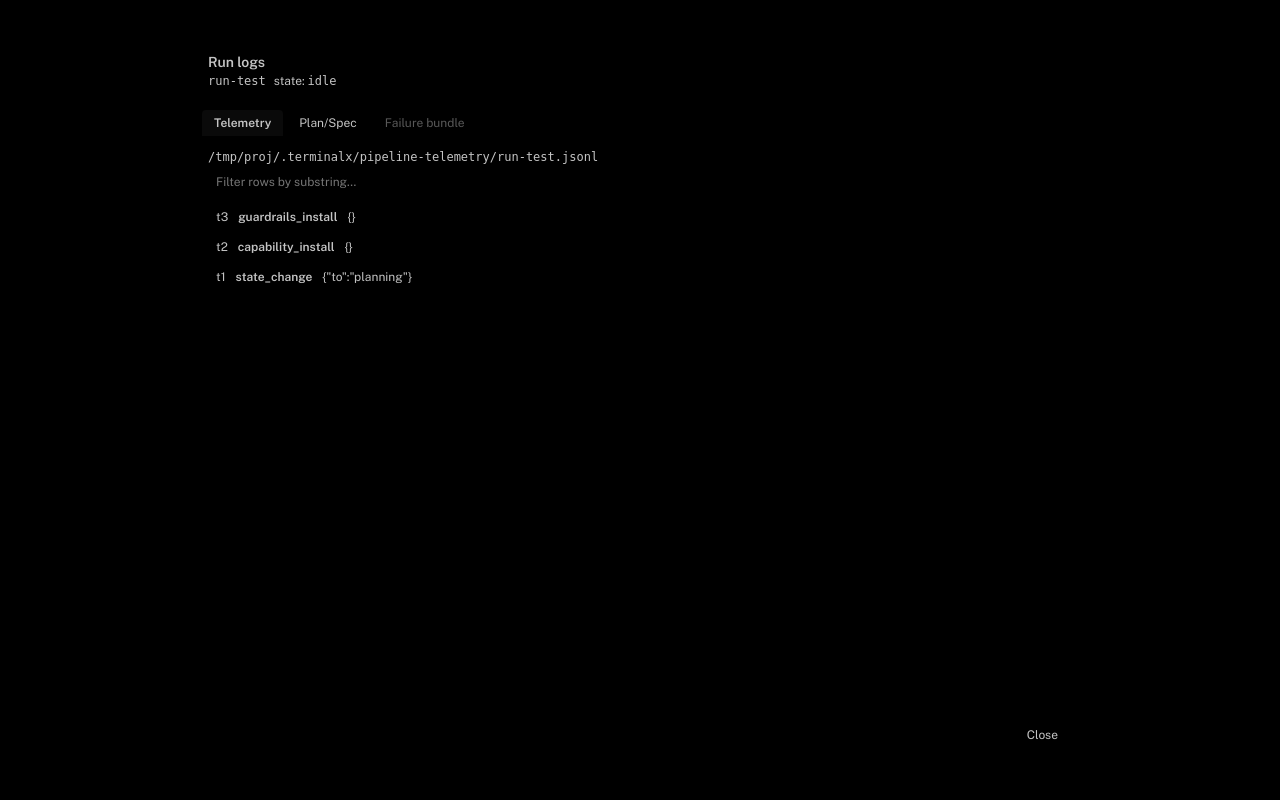
Test: RunLogsModal › search box filters telemetry rows by substring
The width and height of the screenshot is (1280, 800).
Expected: the number of list items with test id "run-logs-telemetry-row" is 3, x1=208 y1=204 x2=1072 y2=230; x1=208 y1=234 x2=1072 y2=260; x1=208 y1=264 x2=1072 y2=290
In the search field with test id "run-logs-search": (640, 182) x1=208 y1=170 x2=1072 y2=194, type "capability"
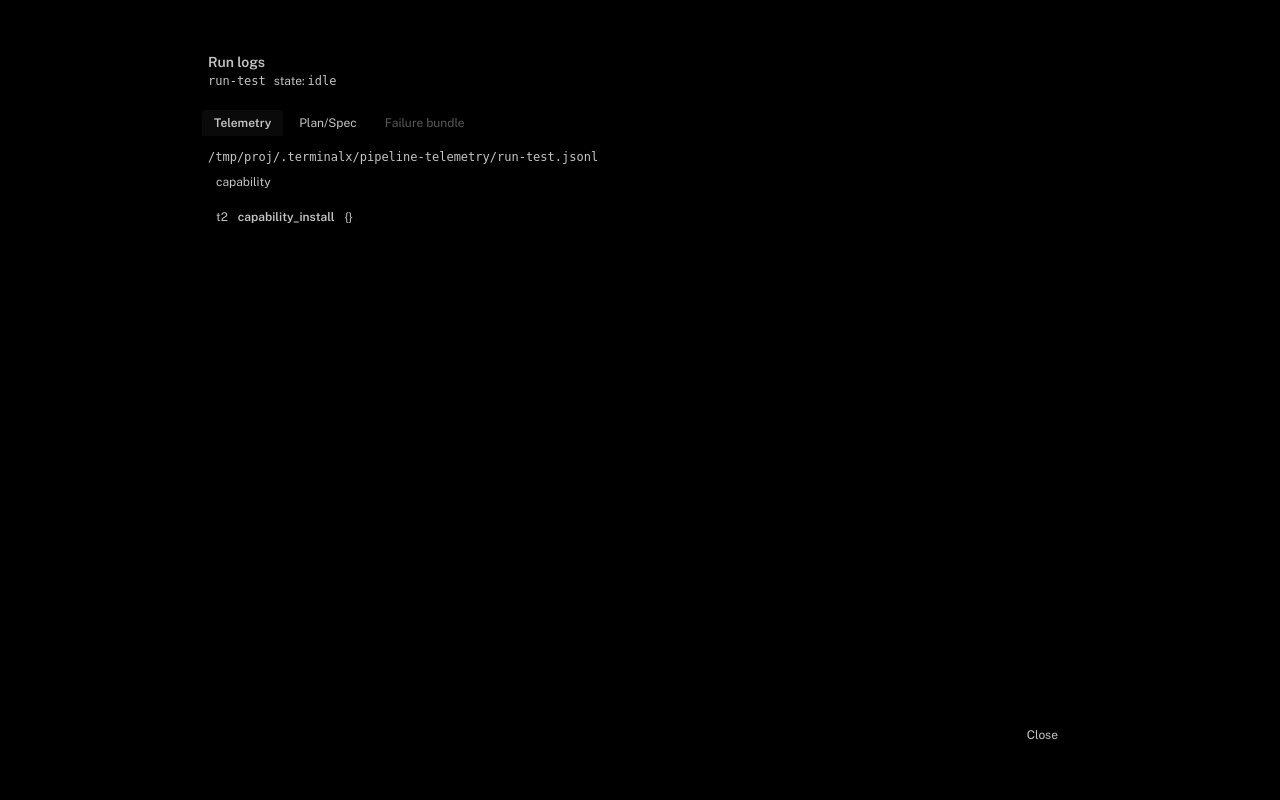
Result: the number of list items with test id "run-logs-telemetry-row" is 1 at x1=208 y1=204 x2=1072 y2=230
Result: the list item with test id "run-logs-telemetry-row" shows "capability_install" at x1=238 y1=210 x2=335 y2=224
